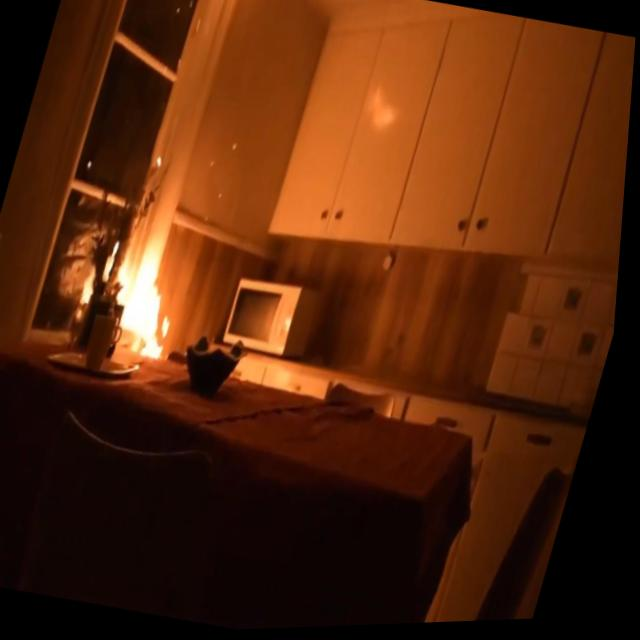fire: (99, 239, 202, 374), (115, 240, 124, 258)
